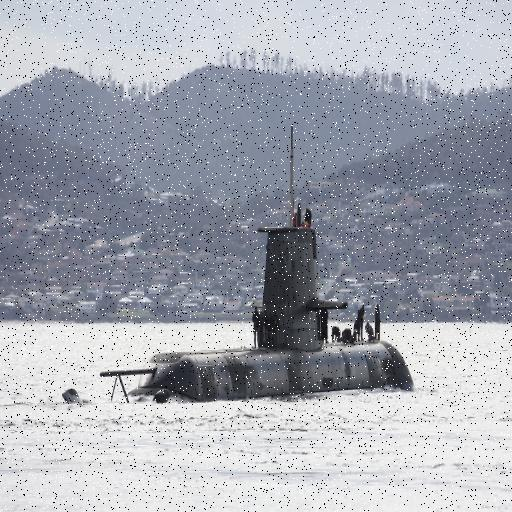submarine: (79, 116, 419, 392)
